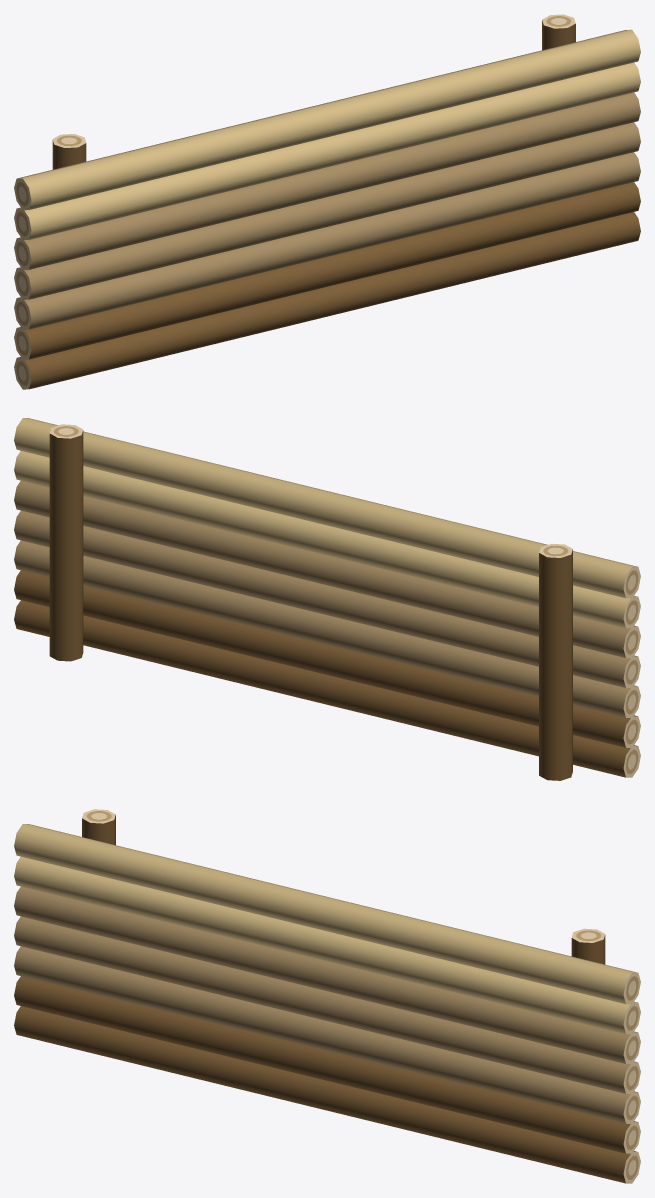
File: Barricade_4.FBX
The picture shows the model from 3 angles, top to bottom: view 1: azimuth 30°, elevation 25°; view 2: azimuth 150°, elevation 25°; view 3: azimuth 330°, elevation 25°; orthographic projection.
Visible parts, largest first — view 1: barricade_4; view 2: barricade_4; view 3: barricade_4.
Boxes of the visible parts, x1,y1,x2,y2 form: barricade_4: (14, 14, 640, 389); barricade_4: (14, 418, 640, 780); barricade_4: (14, 809, 640, 1183).
Bounding box in the file's own units: 2.11 × 0.7378 × 0.1936.
1 material, 1 textured.
